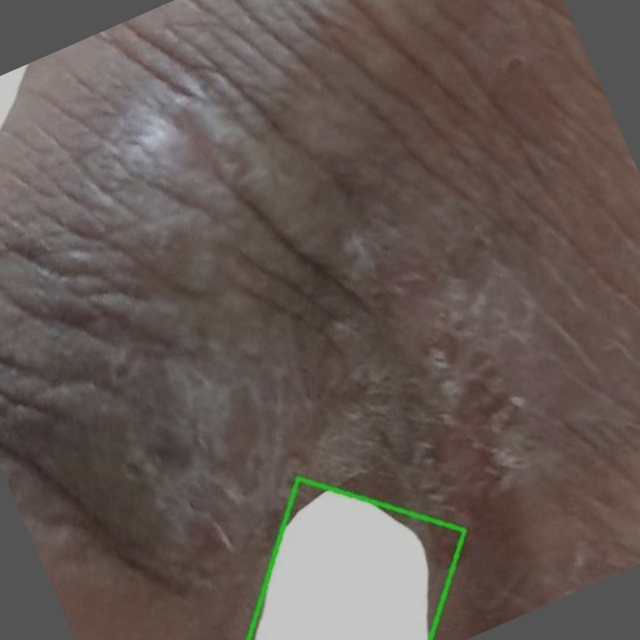Eczema: (248, 478, 465, 639)
